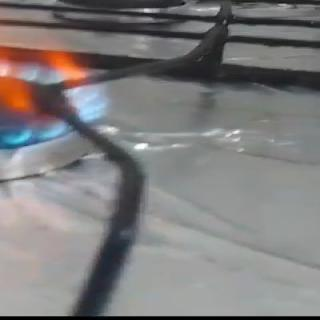fire: (0, 0, 113, 156)
